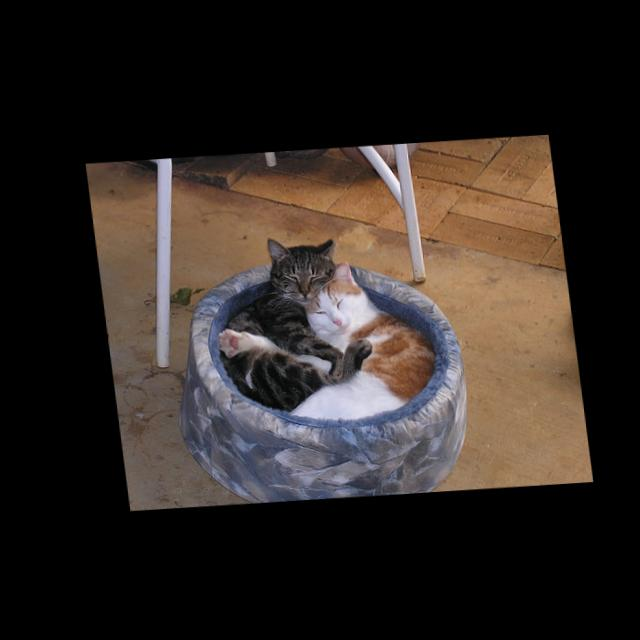animals: (266, 234, 333, 296)
